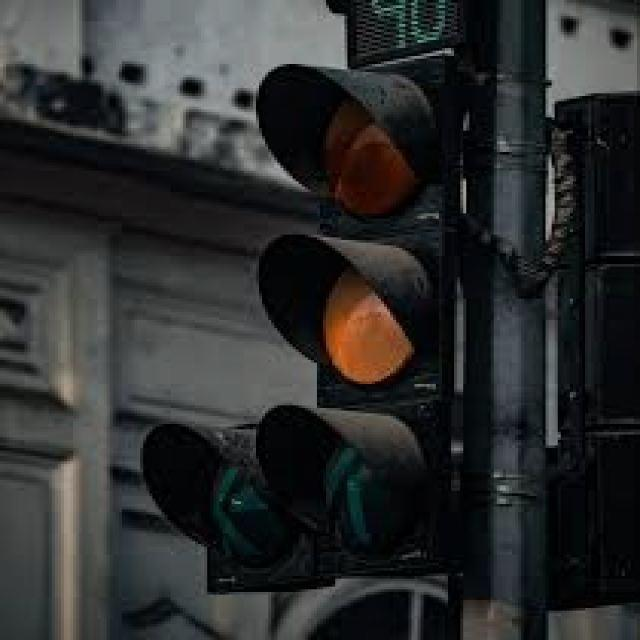Yellow: (255, 64, 470, 559)
